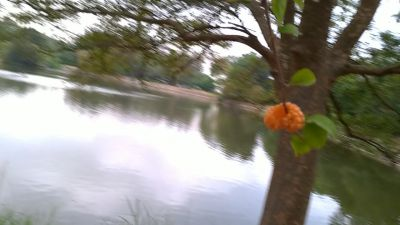eggs: (263, 102, 306, 133)
